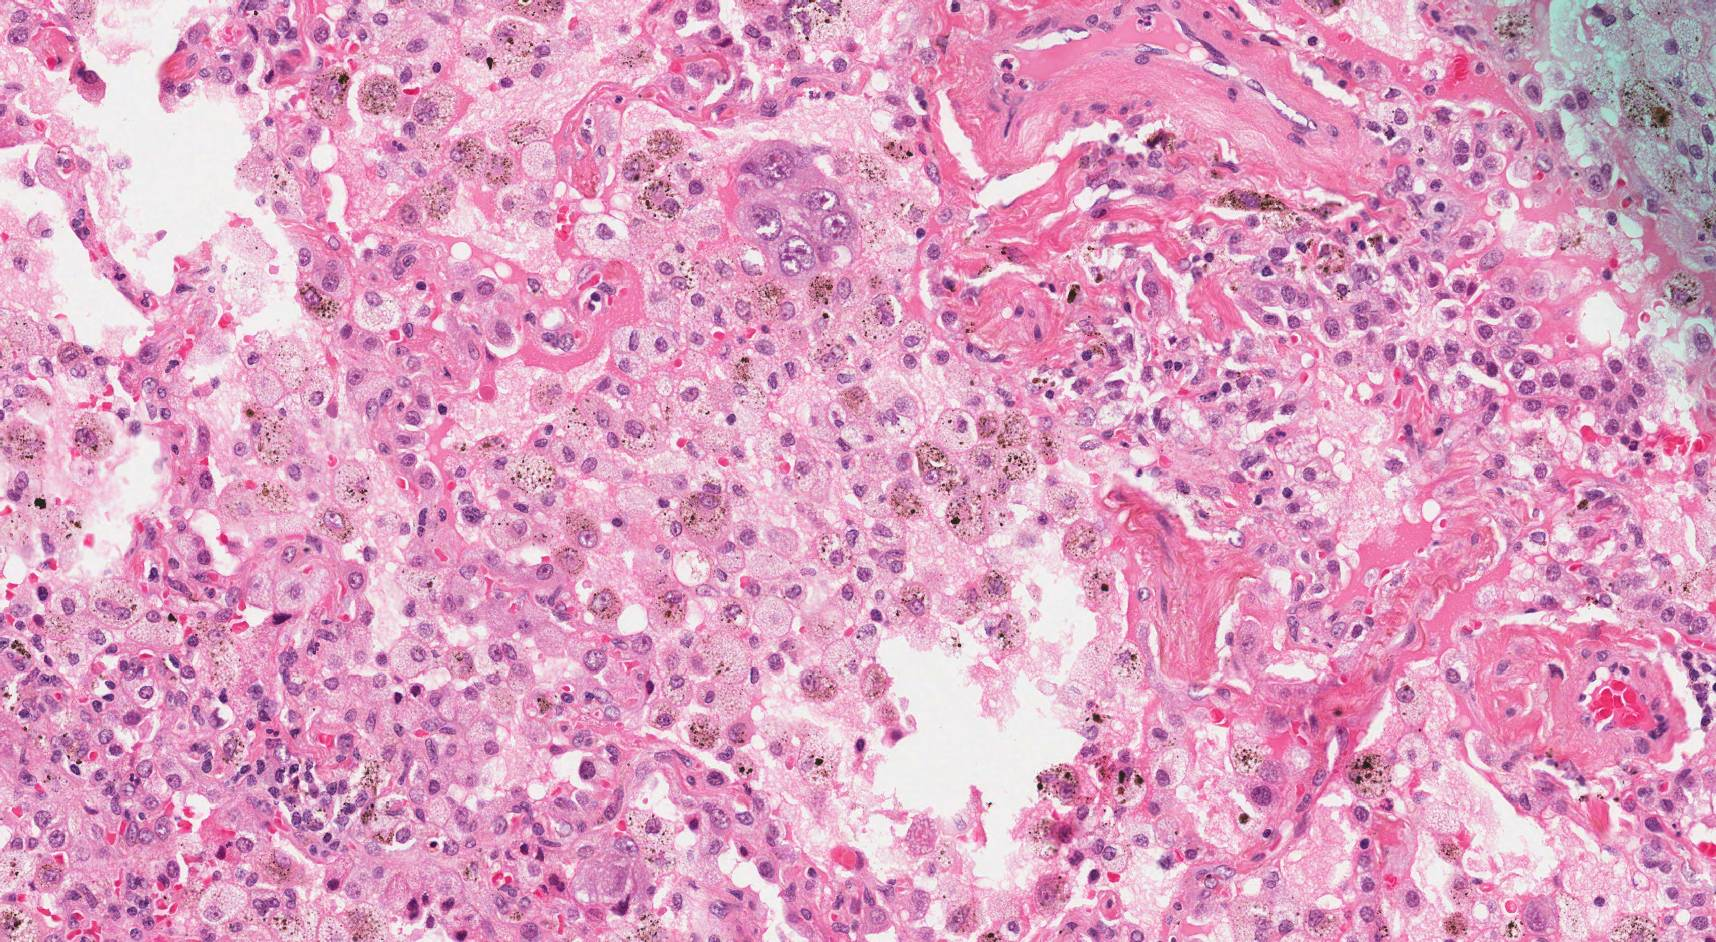stas: (729, 141, 858, 277)
